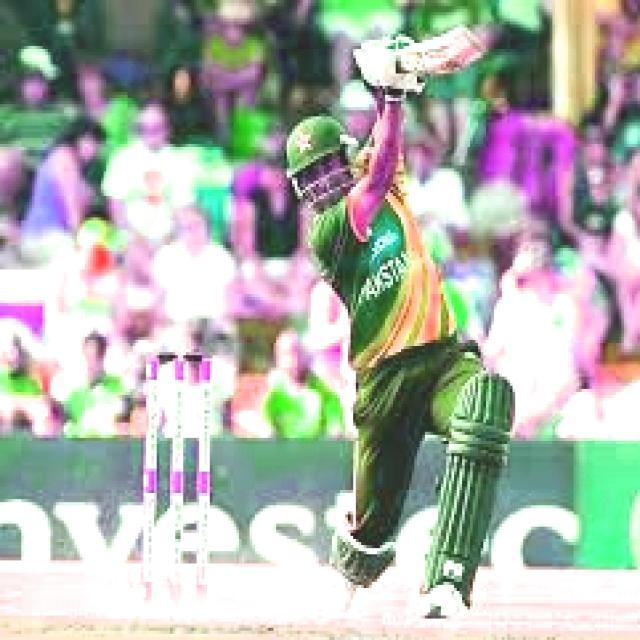bat: (390, 20, 494, 83)
toe: (452, 20, 496, 58)
